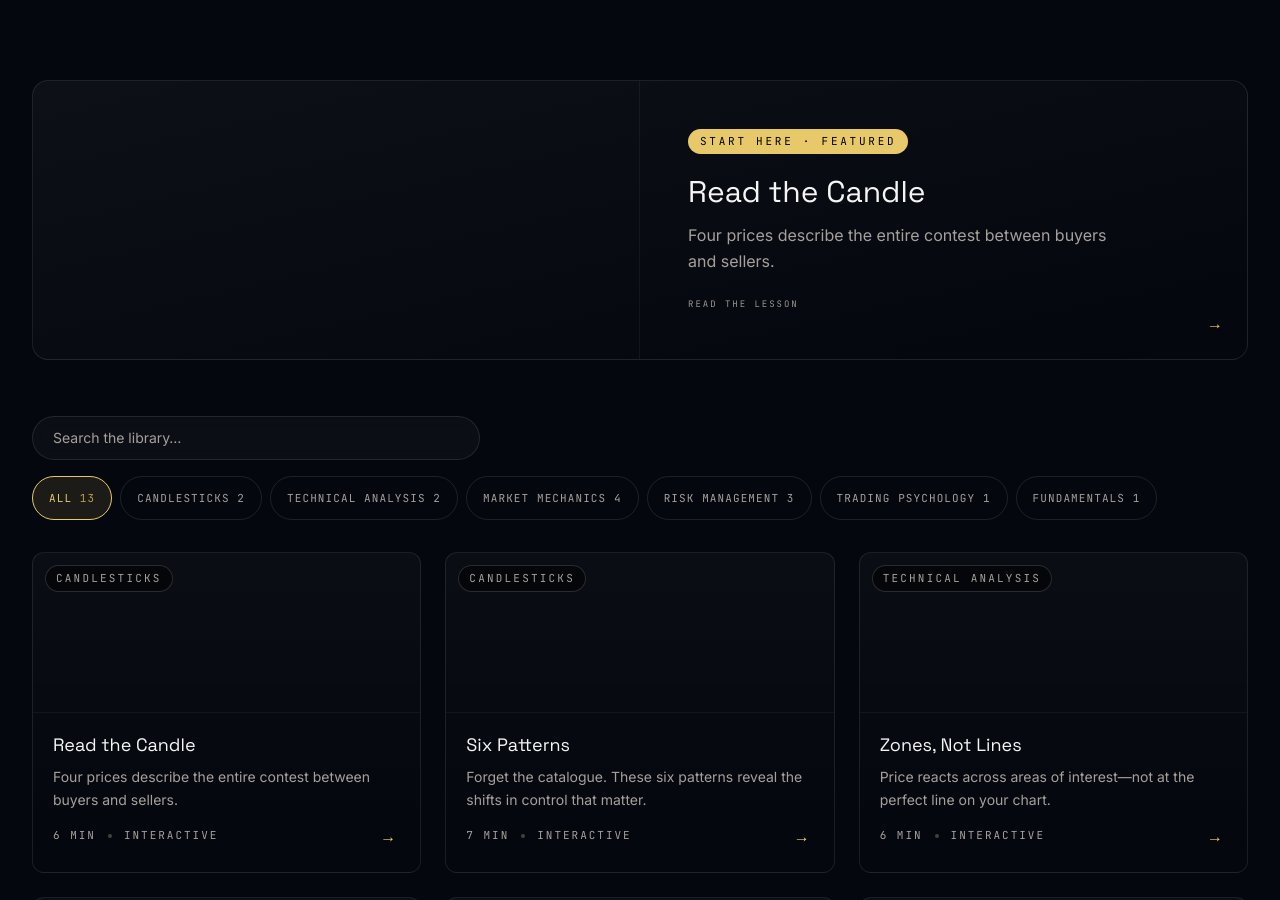
Test: crawlable links with the existing quick reader › opens the reader from a real link and returns focus on close
Click the link with aria-label "Read Read the Candle".
click(227, 712)  # box [32, 552, 421, 873]
(page scrolled)
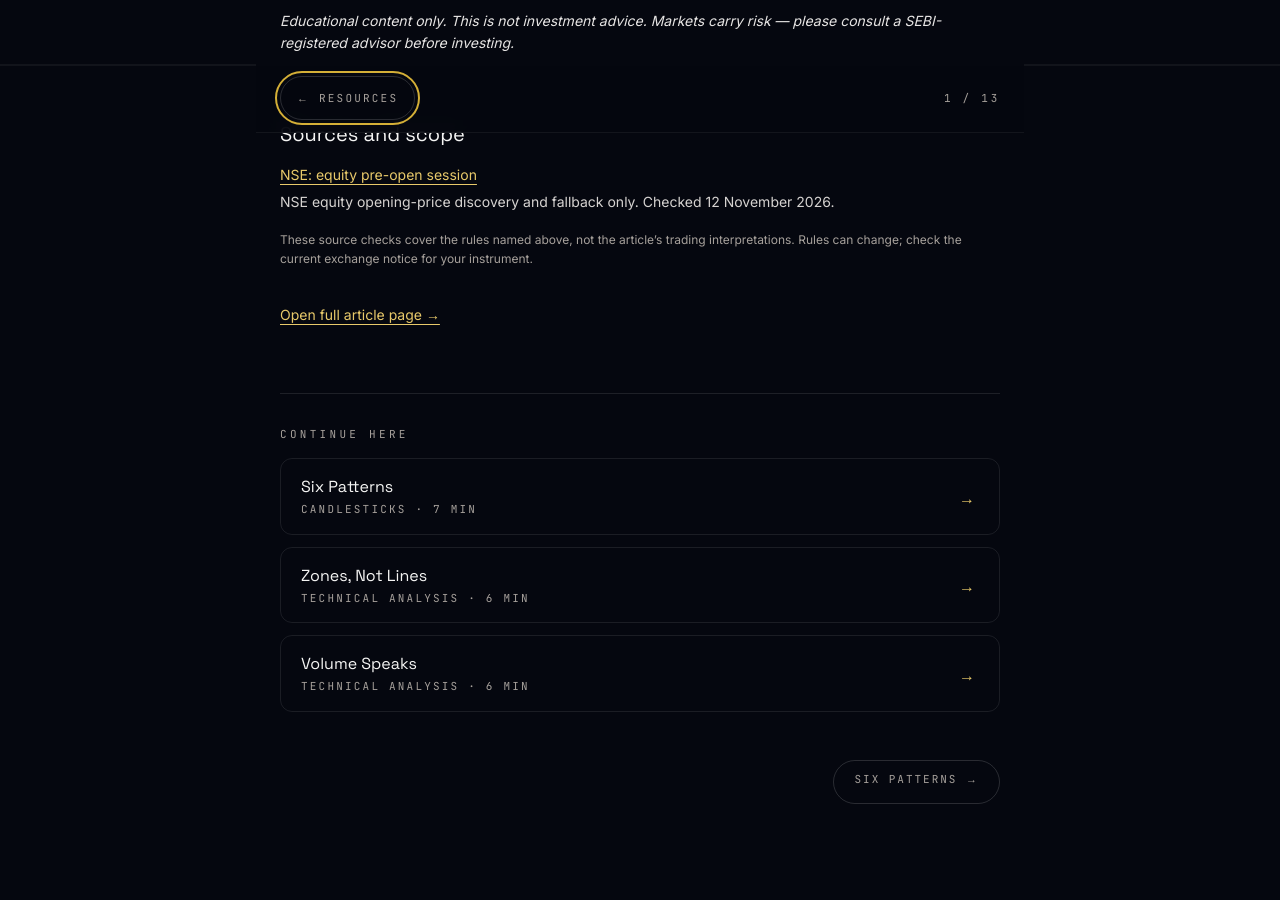
Check: the dialog "Read the Candle" is shown
Click the link "Six Patterns Candlesticks · 7 min →".
click(347, 486)  # box [280, 458, 1000, 534]
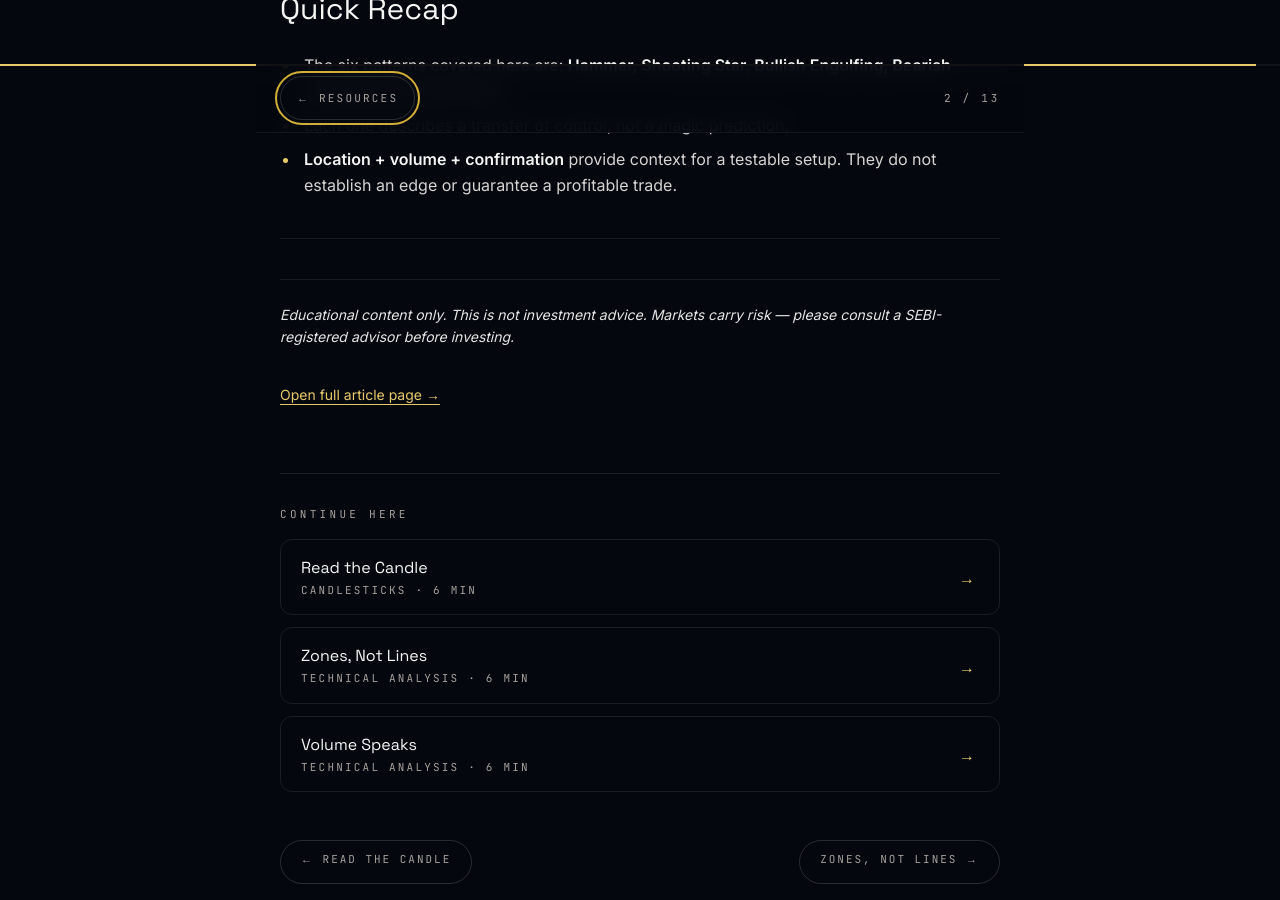
Check: the dialog "Six Patterns" is shown
Press Escape
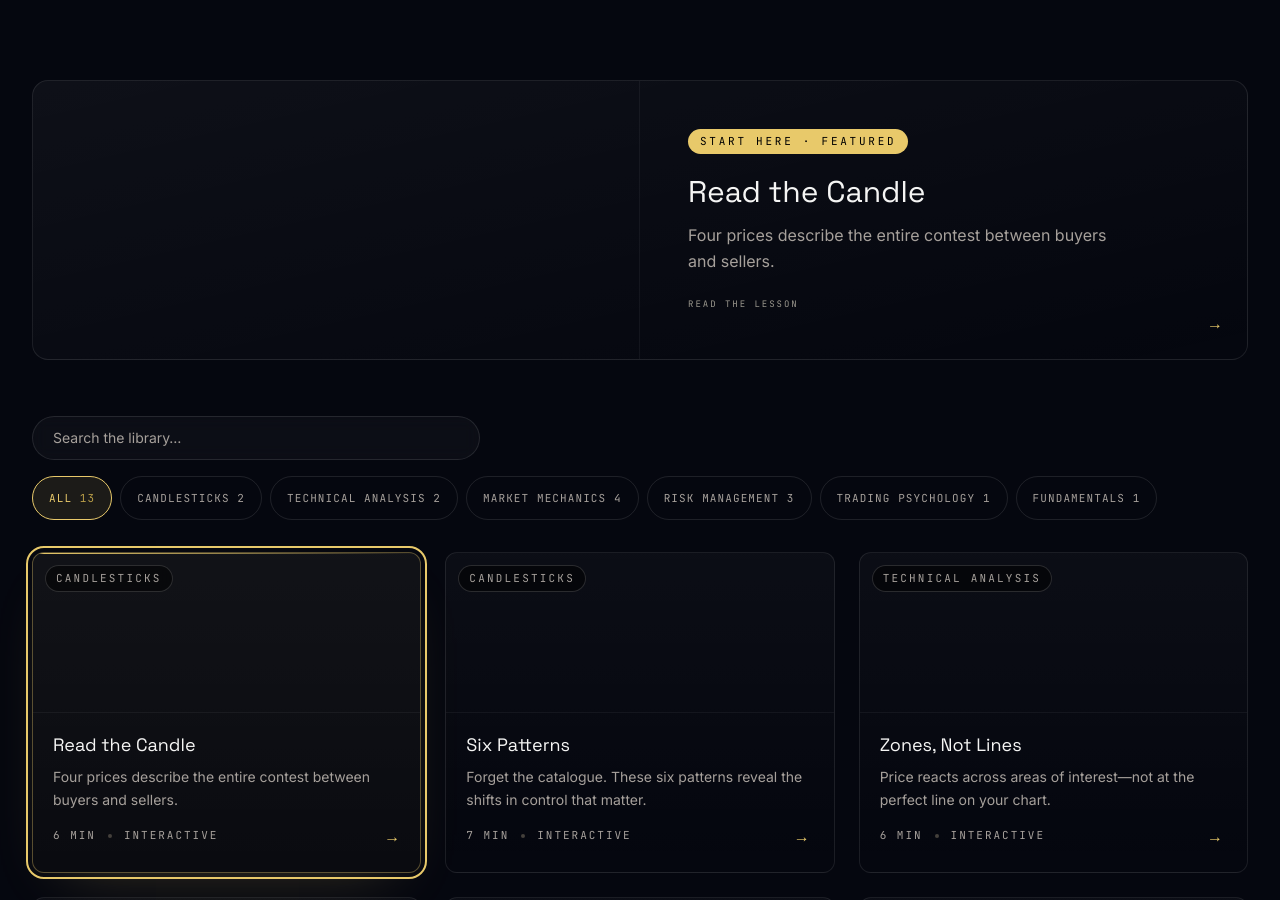
Check: the dialog is gone
